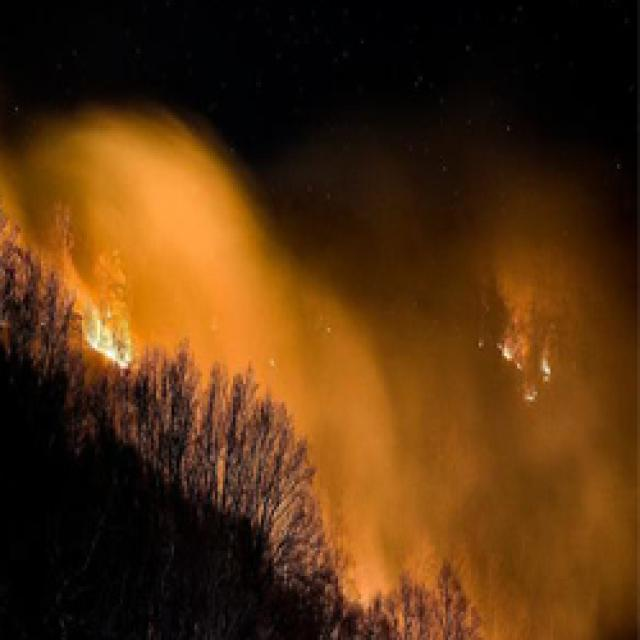Fire: (66, 228, 152, 392), (476, 292, 584, 421)
Smoke: (0, 100, 471, 481), (336, 242, 640, 640)
